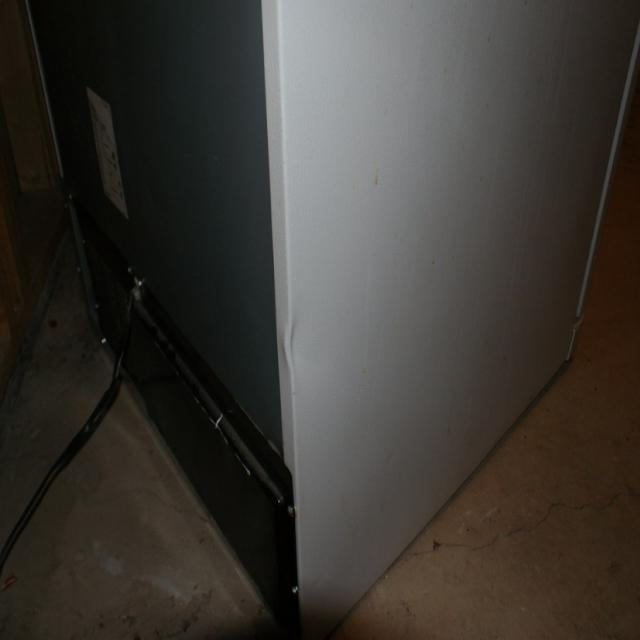dents: (284, 302, 312, 376)
